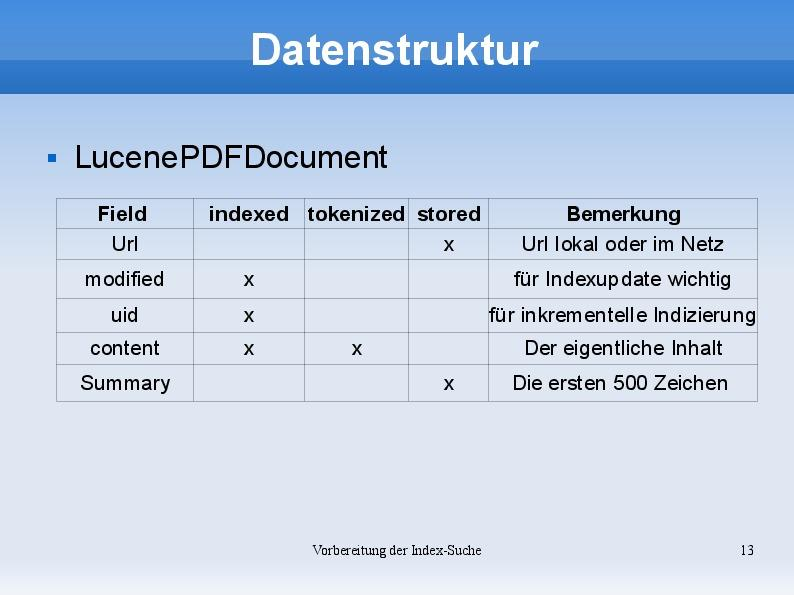paragraph: (41, 133, 770, 447)
subtitle: (73, 136, 403, 180), (298, 520, 533, 567)
title: (237, 21, 571, 87)
